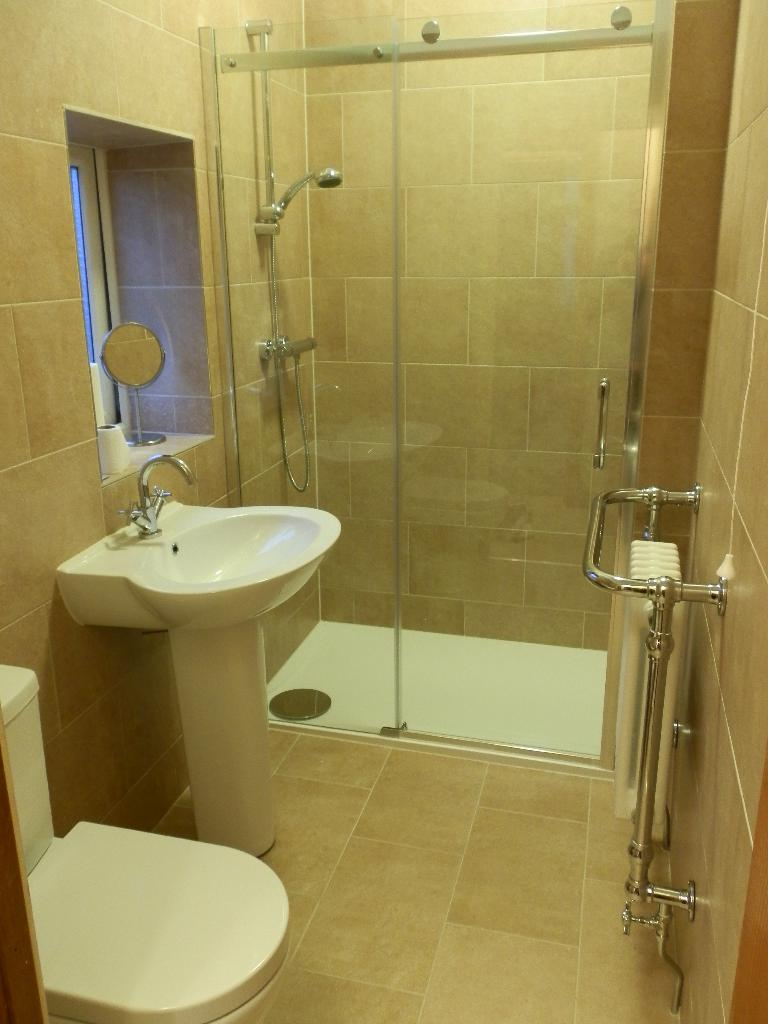tap: (564, 478, 753, 1023), (120, 448, 199, 539)
